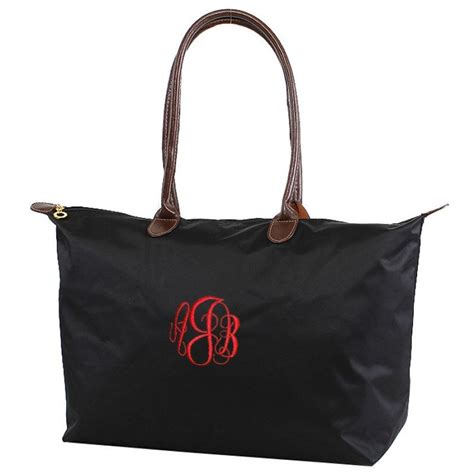nylon: (52, 208, 421, 467)
